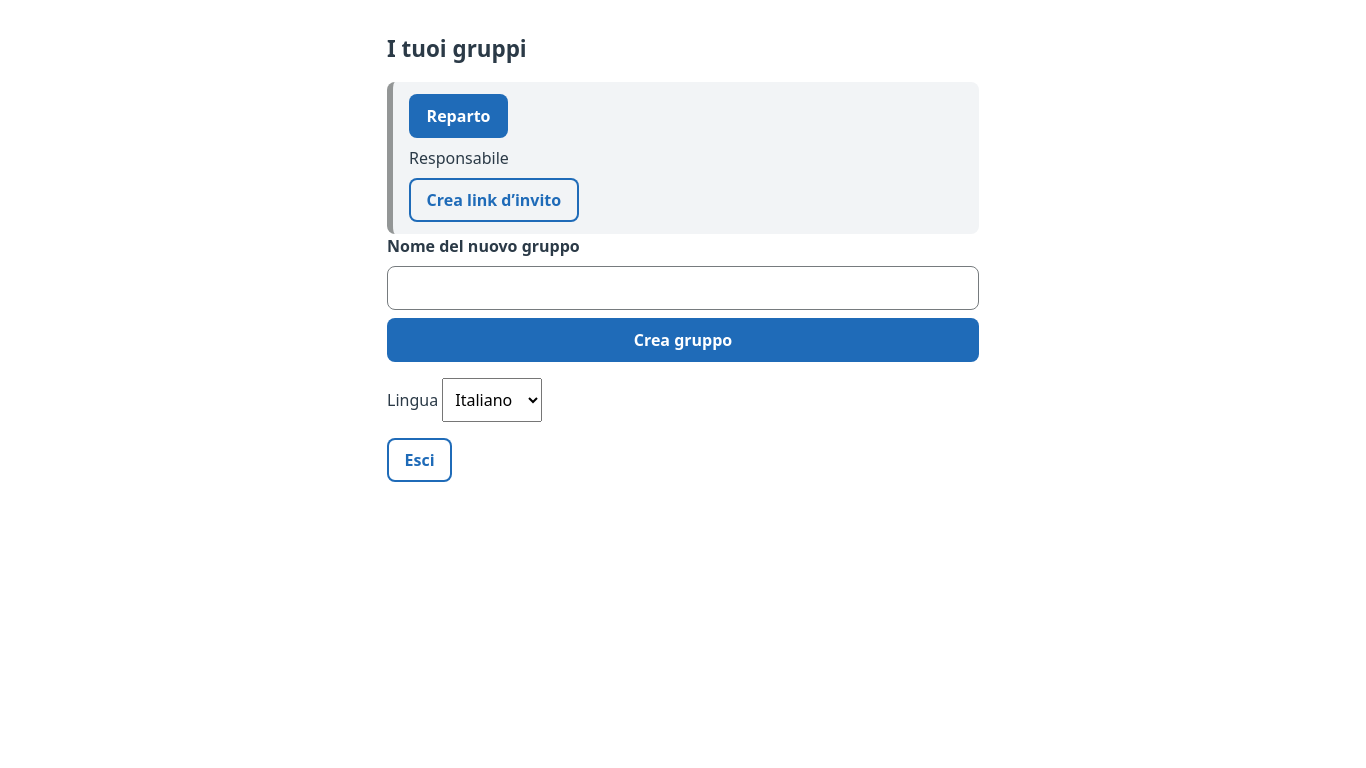
Test: opens a group into the existing pages, with a source built for that group and user
What coordinates should you click on to do the following:
click the button "Reparto"
I would click on:
 (459, 116)
Its box is x1=409 y1=94 x2=508 y2=138.
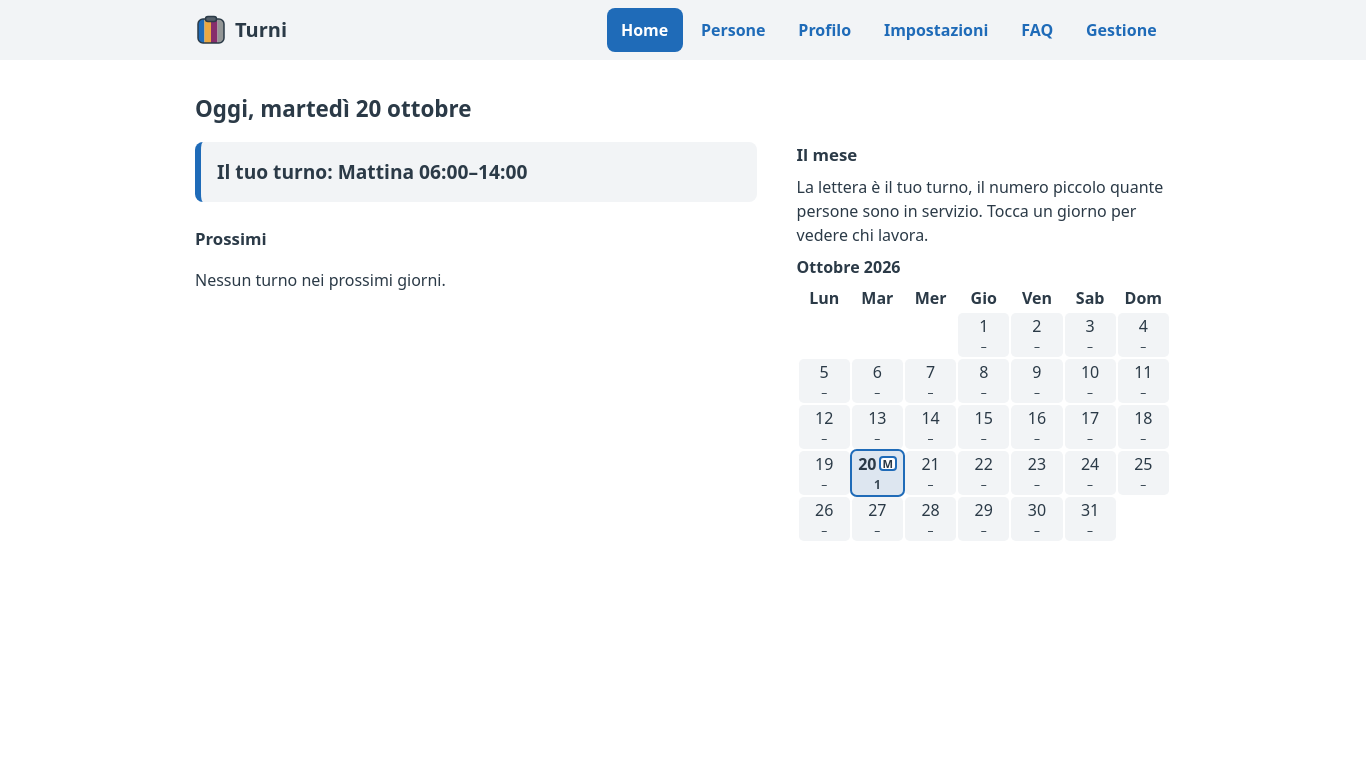
Expected: the navigation bar is shown, x1=606 y1=8 x2=1171 y2=52
